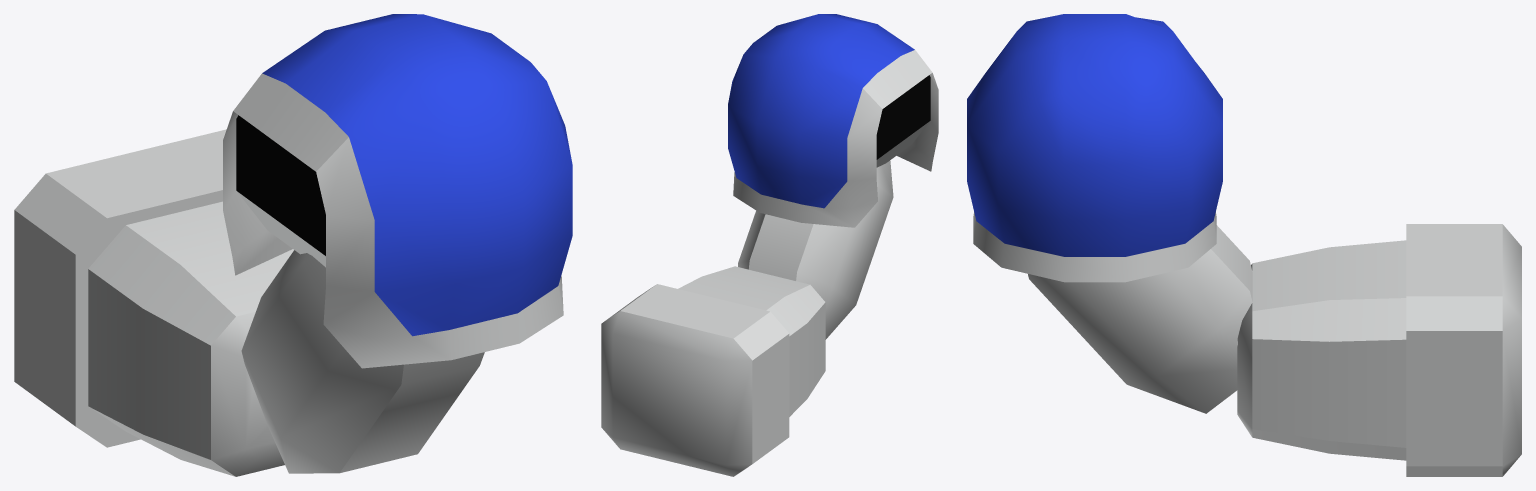
File: Arm_R.obj
3 renders of one model, left to right at view 1: azimuth 30°, elevation 25°; view 2: azimuth 150°, elevation 25°; view 3: azimuth 270°, elevation 25°, orthographic. The views are drawn at different scales.
Visible parts, largest first — view 1: Arm_R; view 2: Arm_R; view 3: Arm_R.
Part boxes in pixels (x1,y1,x2,y2): Arm_R: (14,14,572,476); Arm_R: (601,14,938,476); Arm_R: (967,14,1521,476).
Bounding box in the file's own units: 0.2231 × 0.4147 × 0.4994.
